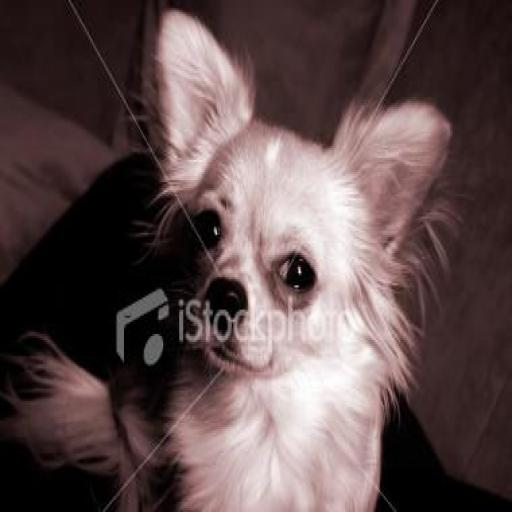dog_face: (148, 20, 439, 358)
